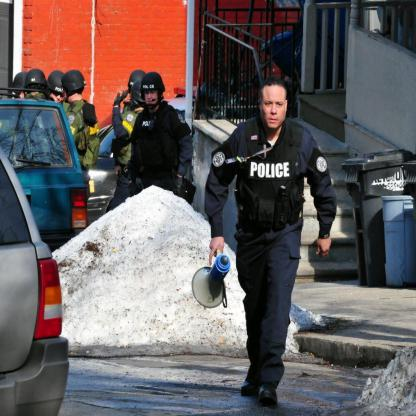face: (263, 89, 286, 128), (145, 85, 159, 108), (50, 85, 64, 105), (65, 84, 74, 103)
